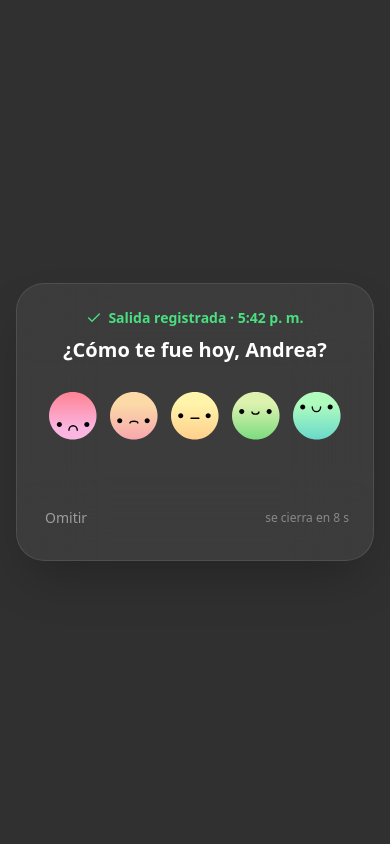
la observación › «Otro» la abre sola, con el interruptor de confidencial apagado
Click the radio button named "Mal" at {"x": 134, "y": 416}, box [106,388,162,444]
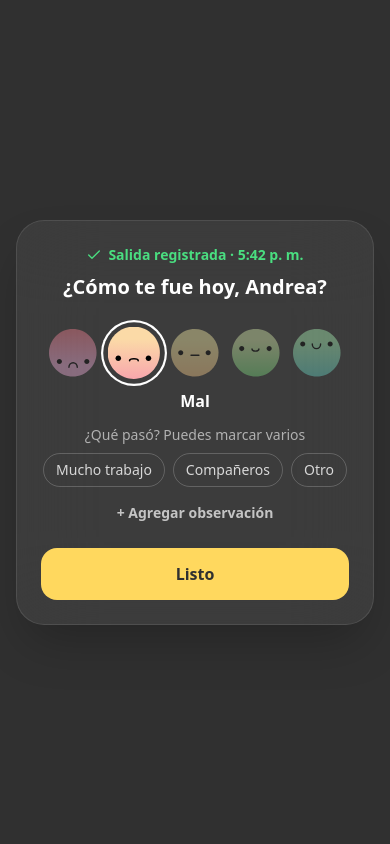
Click the button "Otro" at {"x": 319, "y": 470}, box [291,452,347,486]
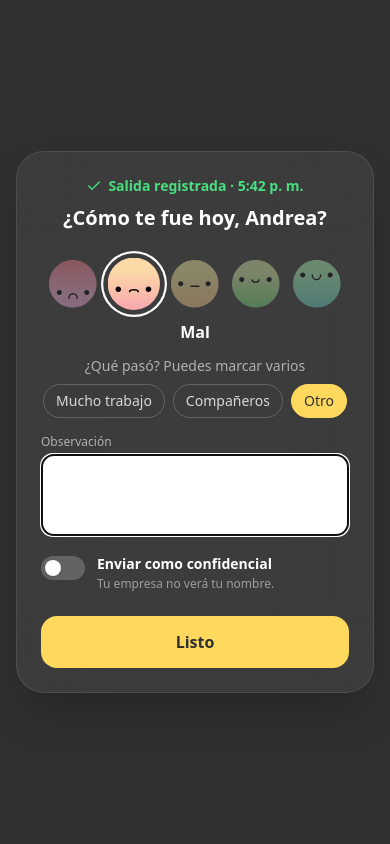
Expected: the text box labelled "Observación" is shown, [41,454,349,536]
Expected: the text "Tu empresa no verá tu nombre." is shown, [97,576,274,592]
